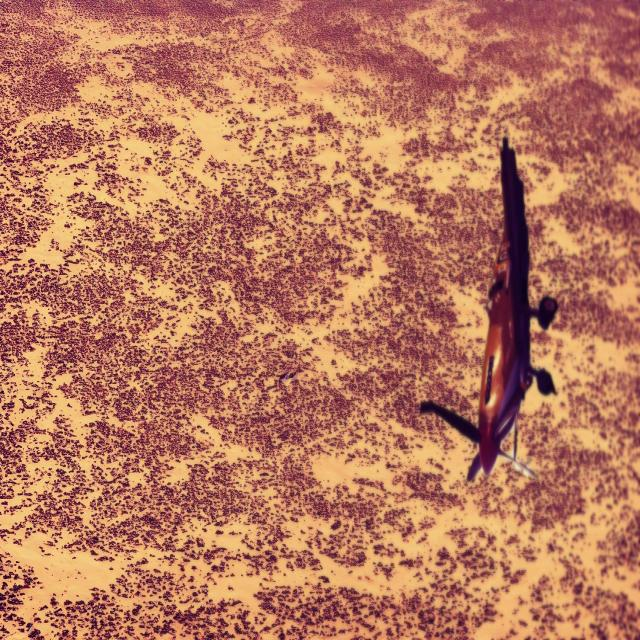airplane: (419, 135, 559, 483)
